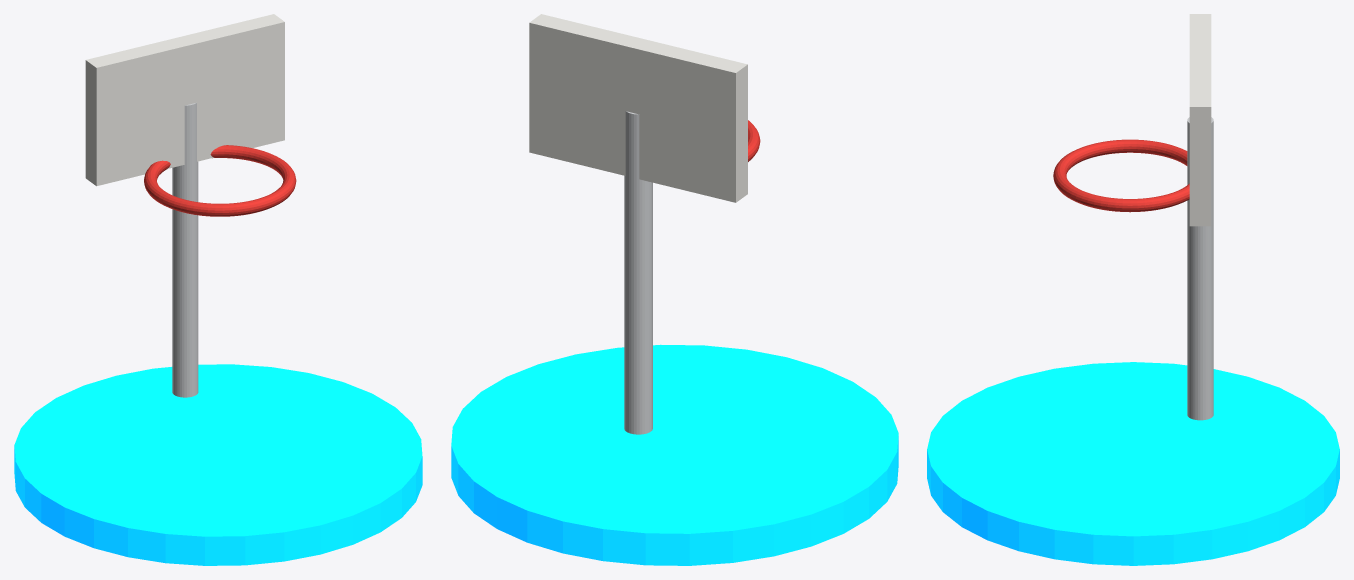
The model's file is sports_basketball_hoop.glb.
3 renders of one model, left to right at view 1: azimuth 30°, elevation 25°; view 2: azimuth 150°, elevation 25°; view 3: azimuth 270°, elevation 25°, orthographic. The views are drawn at different scales.
Parts seen in each view (by area): view 1: 04_20_Popular_Sports_Basketball_Hoop_ROOT_base, 04_20_Popular_Sports_Basketball_Hoop_part_02, 04_20_Popular_Sports_Basketball_Hoop_part_01, 04_20_Popular_Sports_Basketball_Hoop_part_03; view 2: 04_20_Popular_Sports_Basketball_Hoop_ROOT_base, 04_20_Popular_Sports_Basketball_Hoop_part_02, 04_20_Popular_Sports_Basketball_Hoop_part_01; view 3: 04_20_Popular_Sports_Basketball_Hoop_ROOT_base, 04_20_Popular_Sports_Basketball_Hoop_part_01, 04_20_Popular_Sports_Basketball_Hoop_part_02, 04_20_Popular_Sports_Basketball_Hoop_part_03.
Part boxes in pixels (<box>): 04_20_Popular_Sports_Basketball_Hoop_ROOT_base: <box>14,364,422,565</box>; 04_20_Popular_Sports_Basketball_Hoop_part_02: <box>85,14,284,186</box>; 04_20_Popular_Sports_Basketball_Hoop_part_01: <box>172,102,198,397</box>; 04_20_Popular_Sports_Basketball_Hoop_part_03: <box>144,145,296,216</box>; 04_20_Popular_Sports_Basketball_Hoop_ROOT_base: <box>451,344,898,565</box>; 04_20_Popular_Sports_Basketball_Hoop_part_02: <box>529,14,747,202</box>; 04_20_Popular_Sports_Basketball_Hoop_part_01: <box>624,111,652,434</box>; 04_20_Popular_Sports_Basketball_Hoop_ROOT_base: <box>927,362,1339,565</box>; 04_20_Popular_Sports_Basketball_Hoop_part_01: <box>1187,117,1213,420</box>; 04_20_Popular_Sports_Basketball_Hoop_part_02: <box>1189,14,1211,226</box>; 04_20_Popular_Sports_Basketball_Hoop_part_03: <box>1053,139,1189,212</box>.
Size of the model in its own units: 0.76 by 0.85 by 0.76.
